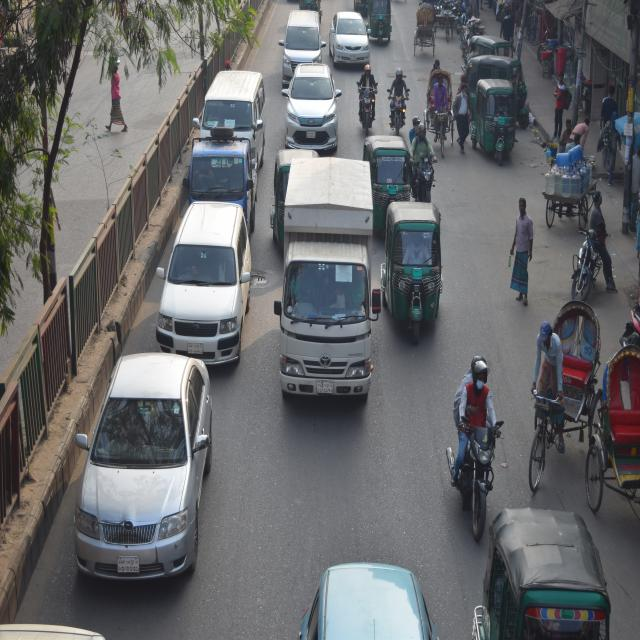car: (61, 343, 215, 593), (151, 202, 253, 364), (288, 548, 446, 640), (283, 63, 344, 149), (328, 4, 374, 68)
microbus: (201, 66, 267, 131), (285, 4, 323, 74)
motorbike: (441, 390, 503, 536), (563, 218, 606, 296), (410, 134, 447, 204), (354, 63, 381, 131), (385, 76, 407, 138)
pickup-van: (280, 157, 375, 415)
